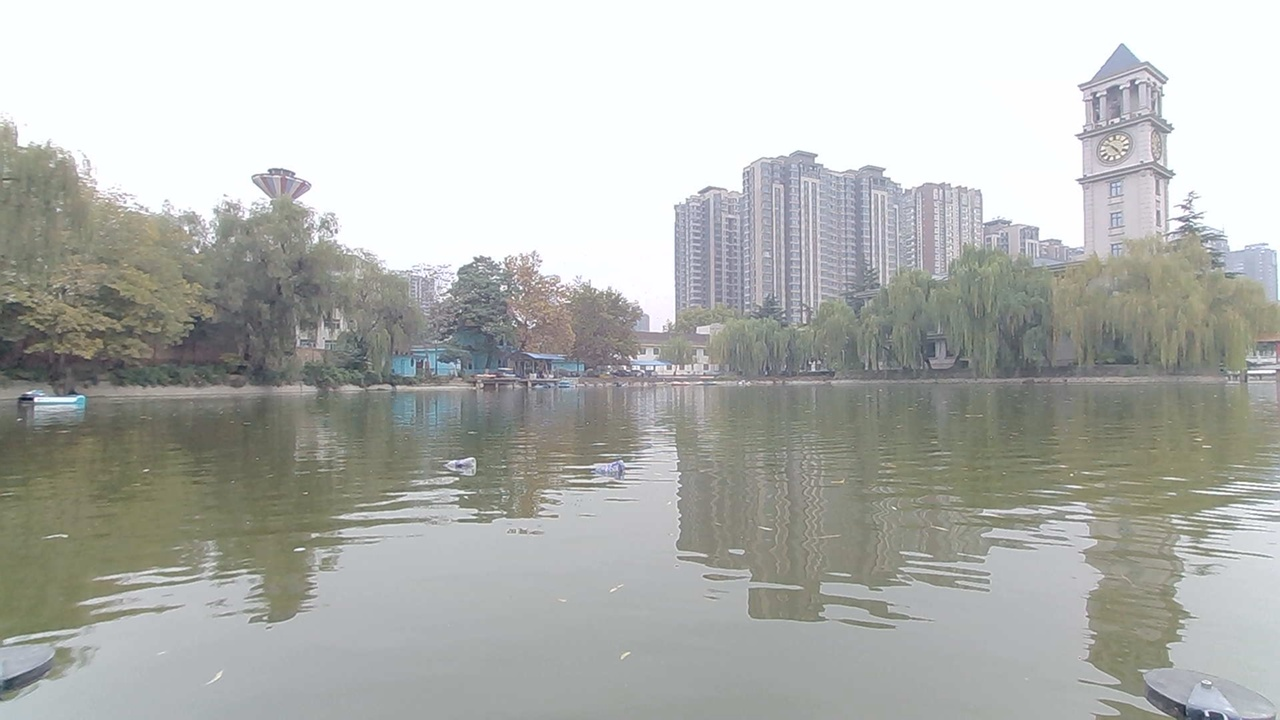bottle: (439, 448, 478, 474), (596, 462, 629, 479)
